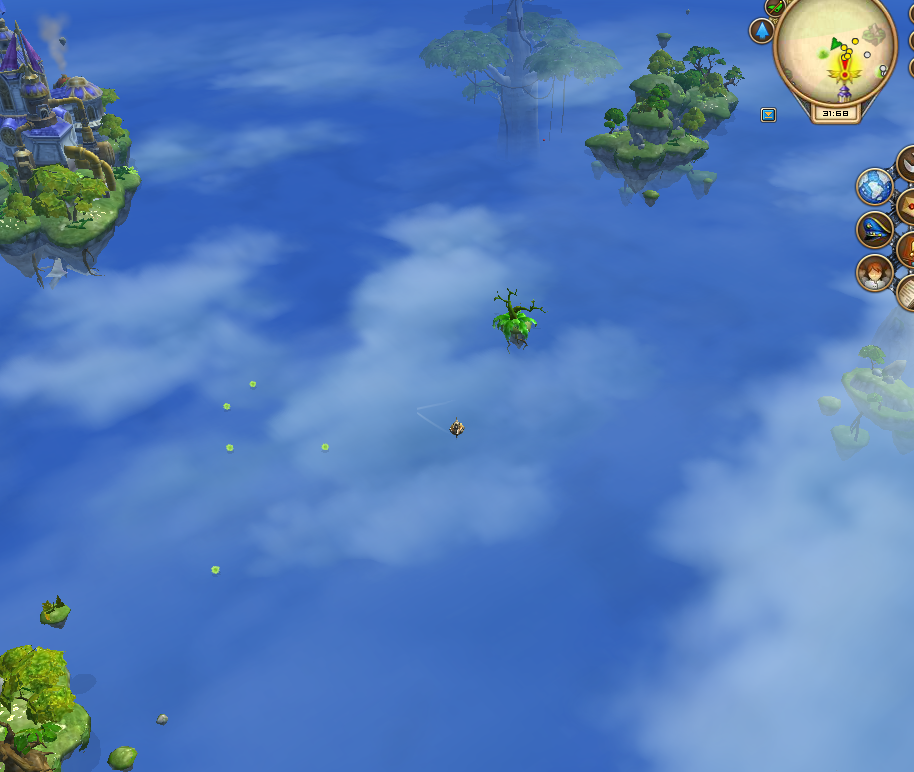dandelion-empty: (481, 280, 550, 353)
fluff: (208, 561, 222, 575), (220, 399, 233, 411), (225, 441, 236, 454), (320, 441, 330, 452), (248, 378, 256, 388)
